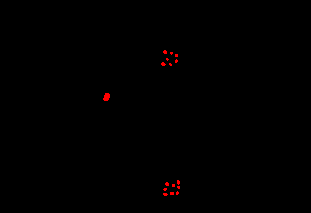Target: (103, 93, 110, 101), (161, 62, 166, 66), (163, 50, 167, 54), (165, 182, 169, 186), (177, 180, 180, 185), (163, 193, 168, 196), (175, 59, 178, 63), (163, 188, 167, 191), (176, 191, 179, 195), (170, 192, 174, 195), (170, 52, 173, 55), (175, 54, 178, 57), (166, 58, 169, 61), (169, 63, 172, 66), (172, 184, 175, 187), (177, 186, 180, 189)
